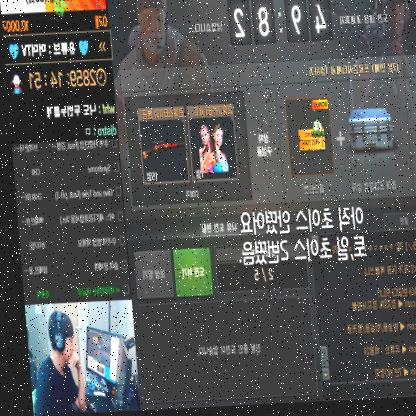streamer: (21, 308, 81, 416)
